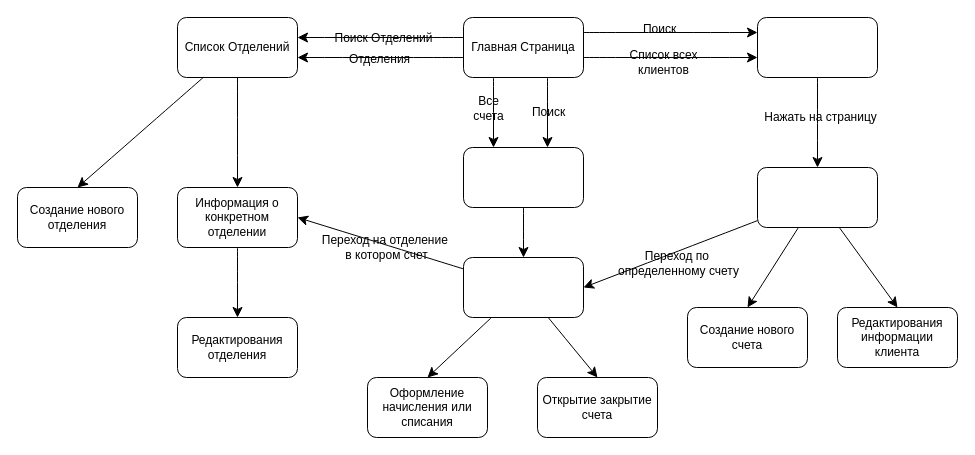
Image size: 975x455. Some labels were removed from this diagram. The centre of each missing label's shape, as x and y in pixels:
"Информация о счете" belongs at (x=523, y=287).
"Список клиентов" belongs at (x=817, y=47).
"Список счетов" belongs at (x=523, y=177).
"Страница определенного клиента" belongs at (x=817, y=197).
